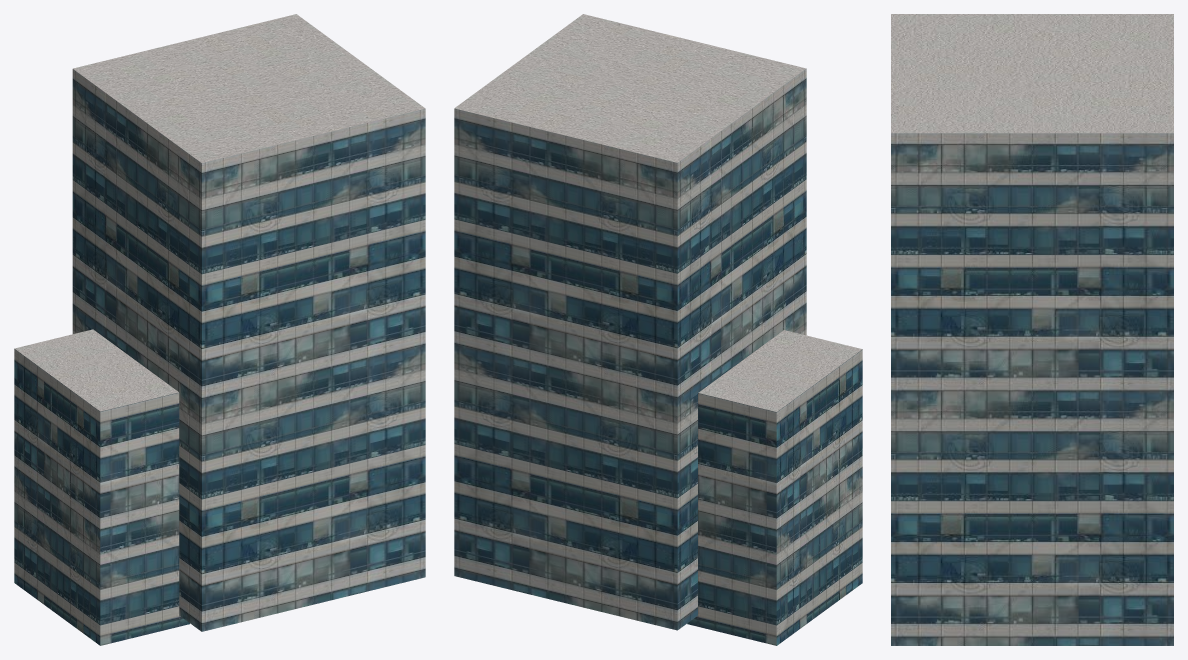
Rendered from Building 10.fbx.
3 renders of one model, left to right at view 1: azimuth 30°, elevation 25°; view 2: azimuth 150°, elevation 25°; view 3: azimuth 270°, elevation 25°, orthographic. The views are drawn at different scales.
Visible parts, largest first — view 1: Building 10; view 2: Building 10; view 3: Building 10.
Part boxes in pixels (box(x1,y1,x2,y2)): Building 10: box(14, 14, 425, 645); Building 10: box(454, 14, 862, 645); Building 10: box(891, 14, 1173, 645).
Bounding box in the file's own units: 2028 × 3072 × 1500.
Materials: 2 (2 with a texture image).
